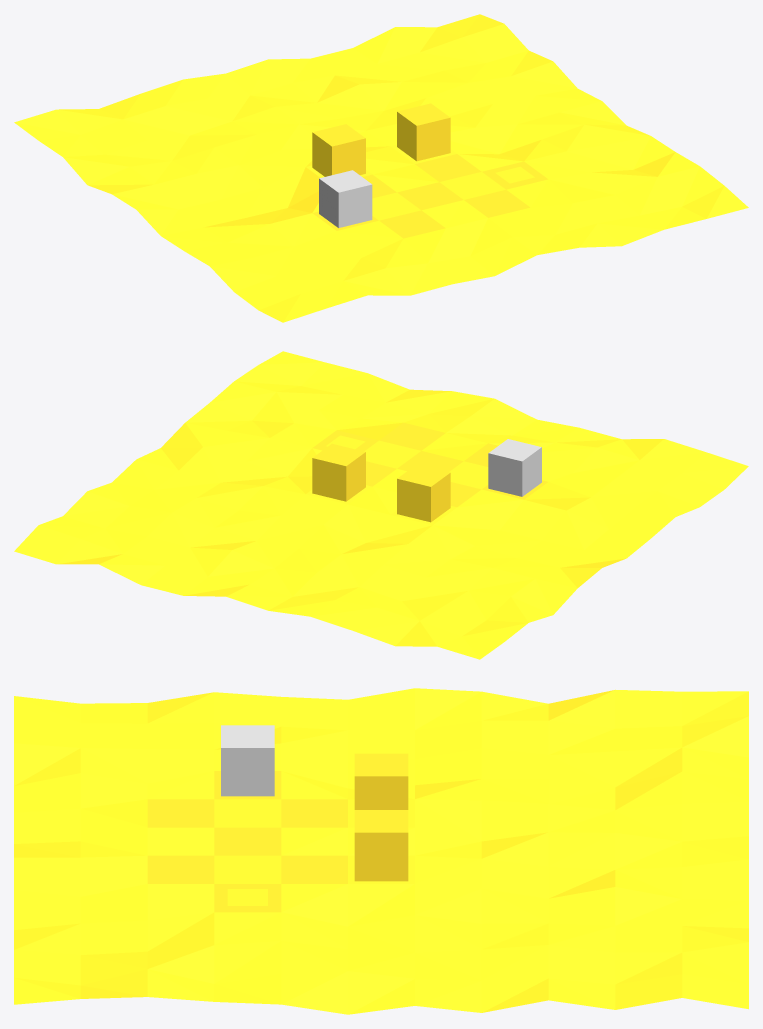
Rendered from Level27.dae.
3 views of the same model, one above another, from view 1: azimuth 30°, elevation 25°; view 2: azimuth 150°, elevation 25°; view 3: azimuth 270°, elevation 25° (orthographic). The views are drawn at different scales.
Visible parts, largest first — view 1: surface, Enemy1, Blocky, Enemy0; view 2: surface, Enemy0, Enemy1, Blocky; view 3: surface, Enemy1, Blocky, Enemy0.
Boxes of the visible parts, x1,y1,x2,y2 form: surface: [14, 14, 748, 322]; Enemy1: [397, 103, 450, 161]; Blocky: [319, 170, 372, 227]; Enemy0: [312, 124, 365, 176]; surface: [14, 351, 748, 659]; Enemy0: [397, 464, 450, 522]; Enemy1: [312, 443, 365, 501]; Blocky: [488, 439, 541, 496]; surface: [14, 688, 748, 1014]; Enemy1: [354, 810, 408, 881]; Blocky: [221, 725, 274, 796]; Enemy0: [354, 753, 408, 809].
Size of the model in its own units: 11 by 11 by 1.1.
